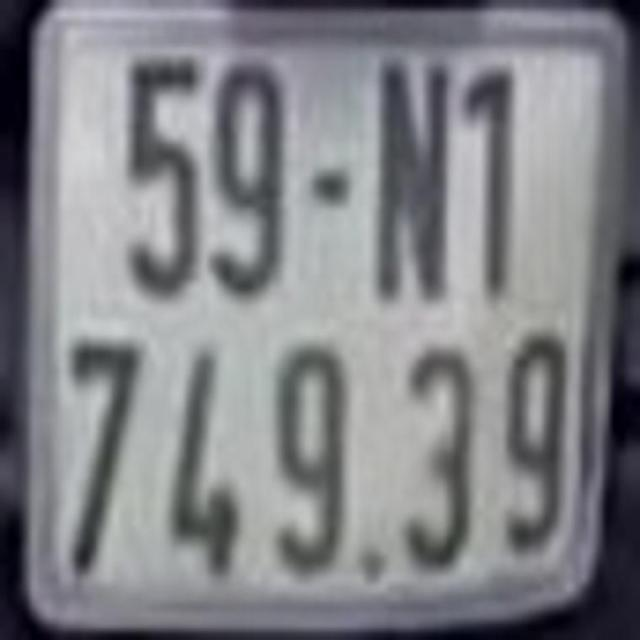1: (456, 64, 524, 298)
3: (409, 346, 474, 569)
4: (171, 352, 248, 580)
5: (123, 55, 203, 288)
7: (68, 338, 143, 572)
9: (272, 346, 346, 589), (211, 61, 288, 292), (500, 333, 574, 554)
N: (372, 57, 454, 313)
